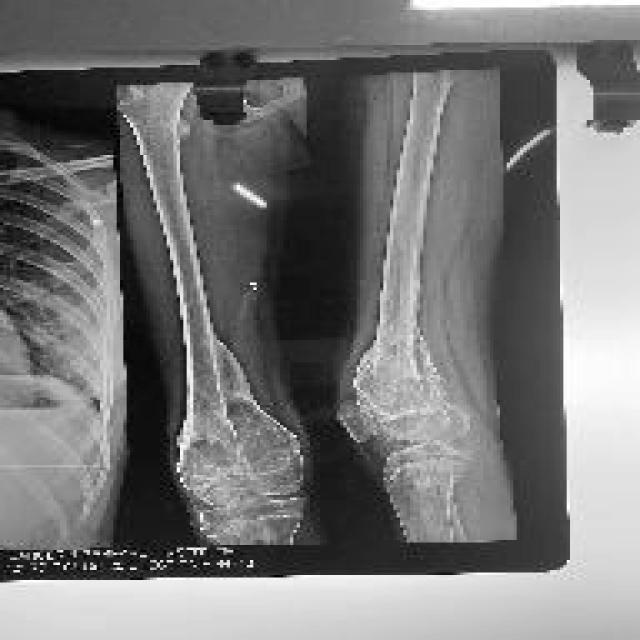bone-cancer: (182, 337, 296, 473), (349, 310, 438, 417)
